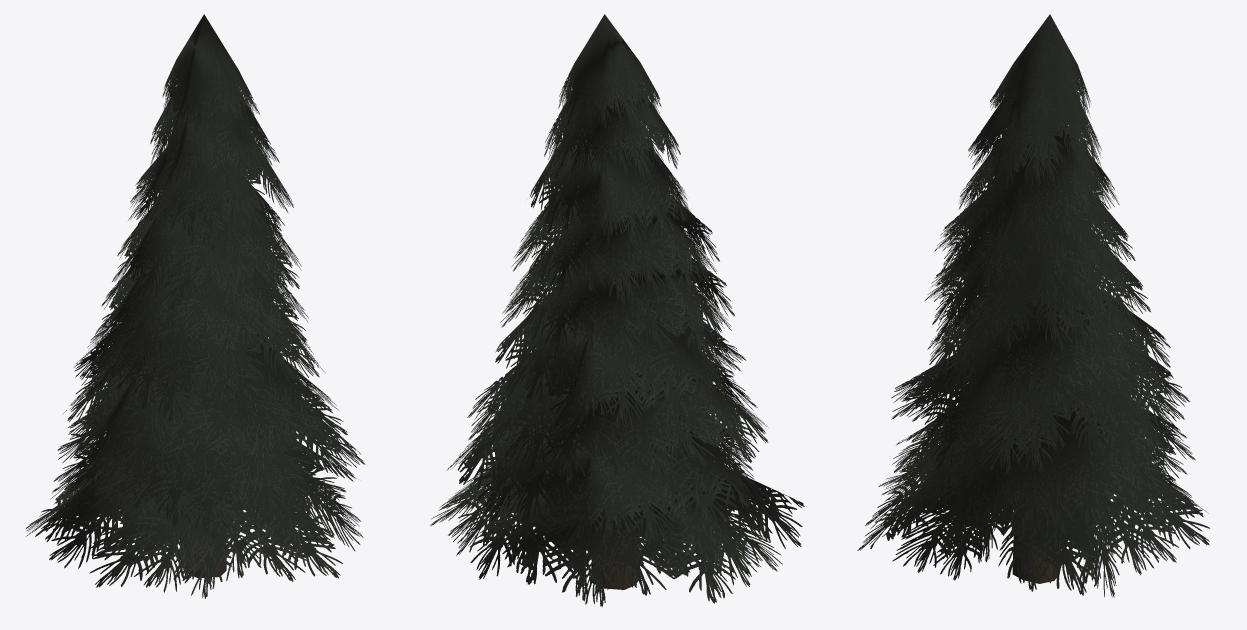
File: Pine_6.fbx
The picture shows the model from 3 angles, left to right: view 1: azimuth 30°, elevation 25°; view 2: azimuth 150°, elevation 25°; view 3: azimuth 270°, elevation 25°; orthographic projection. The views are drawn at different scales.
Parts seen in each view (by area): view 1: Pine_6; view 2: Pine_6; view 3: Pine_6.
Part boxes in pixels (x1,y1,x2,y2): Pine_6: (26,14,365,598); Pine_6: (430,14,804,606); Pine_6: (857,14,1209,597).
Bounding box in the file's own units: 6.24 × 10 × 6.24.
